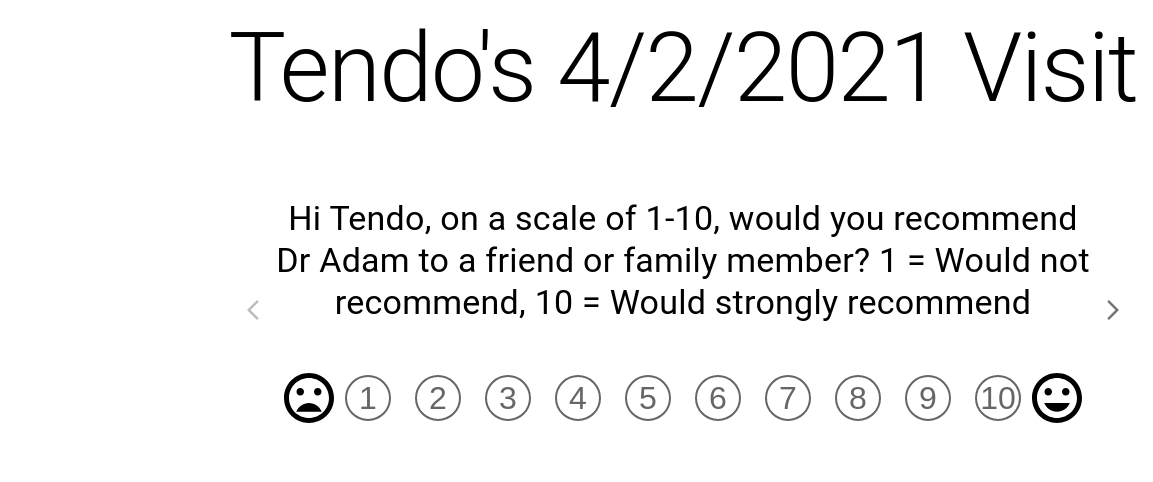
Test: renders clicking a rating renders the next question
Expected: the text "Hi Tendo, on a scale of 1-10, would you recommend Dr Adam to a friend or family member? 1 = Would not recommend, 10 = Wo" is shown, 276,198 -> 1090,322
Click the button "10": (998, 398) 975,376 -> 1021,422
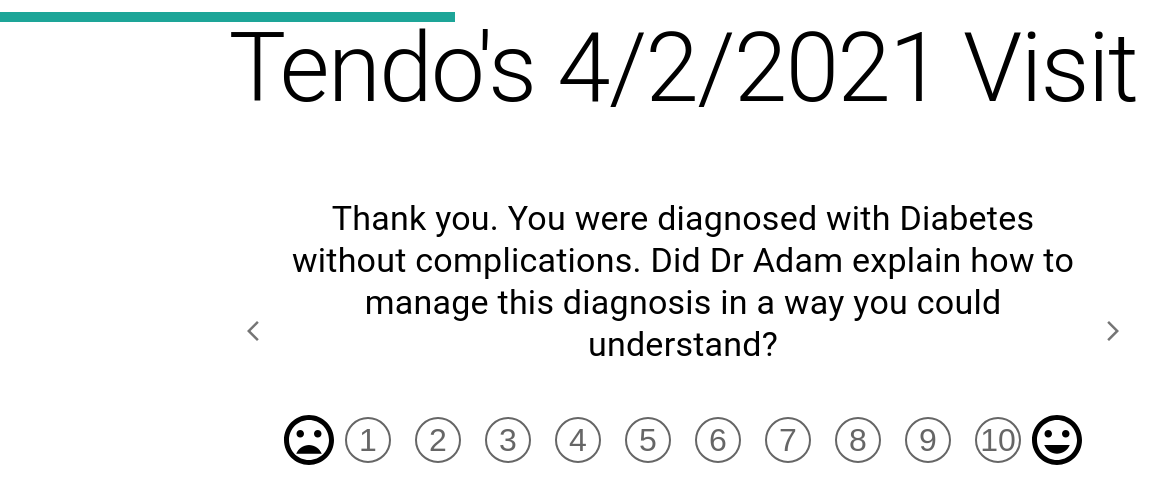
Expected: the text "Thank you. You were diagnosed with Diabetes without complications. Did Dr Adam explain how to manage this diagnosis in a" is shown, 292,198 -> 1074,364
